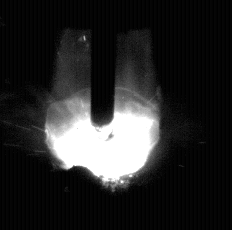arame: (91, 0, 116, 128)
poca: (44, 0, 160, 230)
